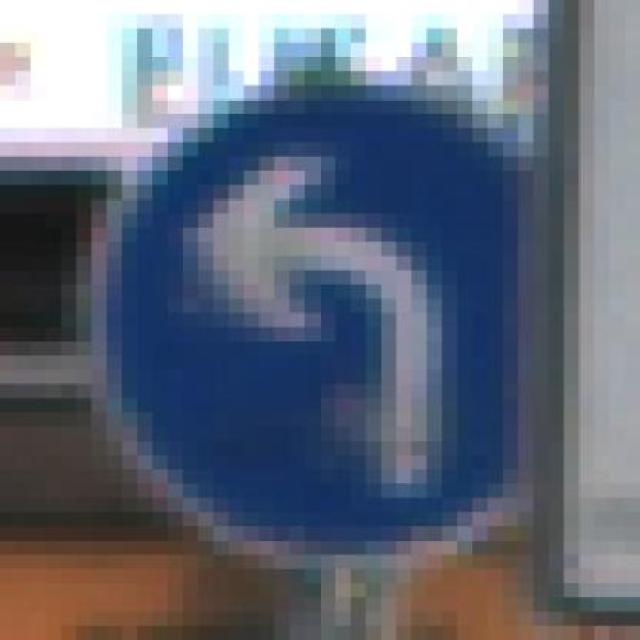Turn left ahead: (74, 72, 592, 557)
